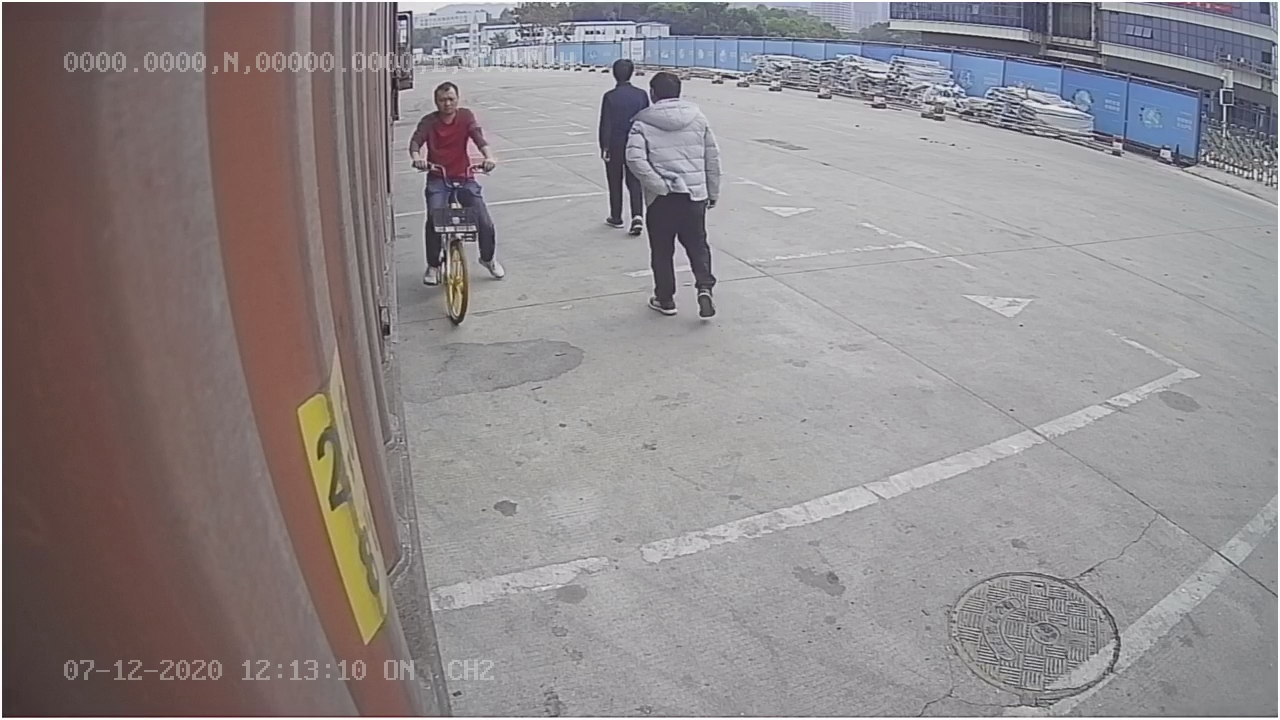person: (625, 69, 725, 324)
